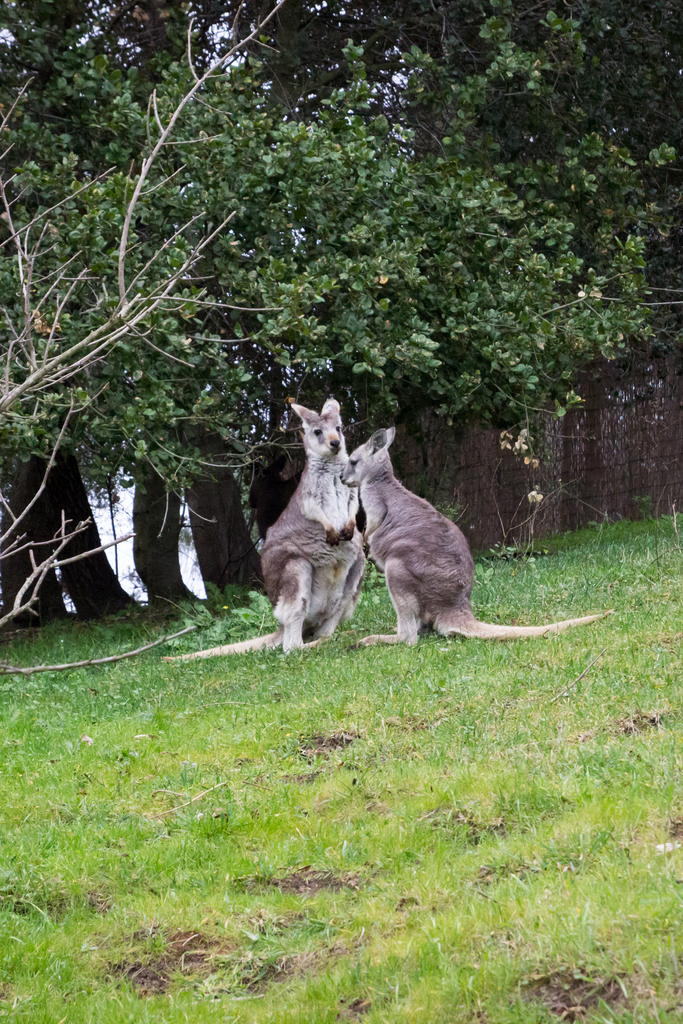kangaroo: (338, 426, 612, 649)
